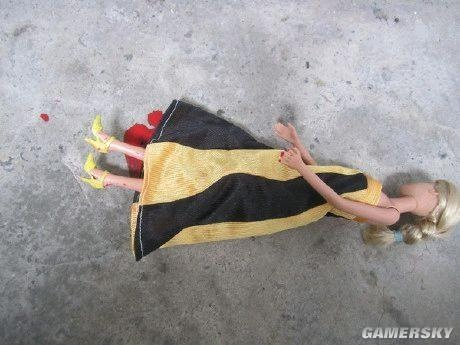falling: (72, 87, 447, 266)
